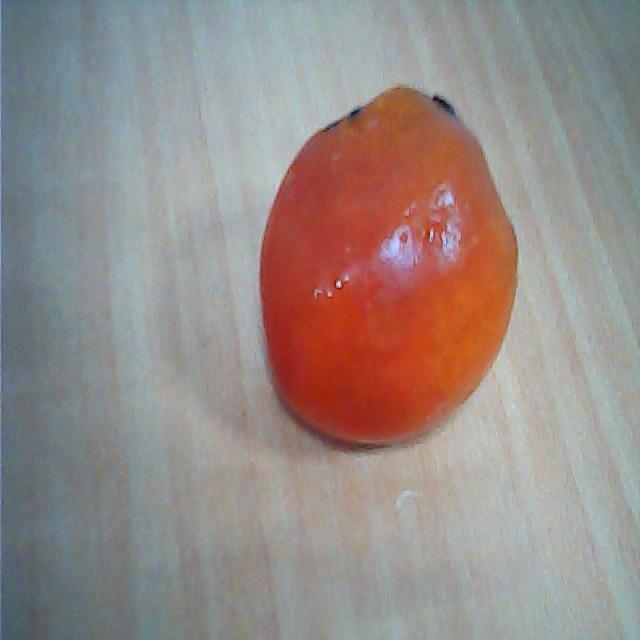defectuoso: (256, 71, 521, 456)
